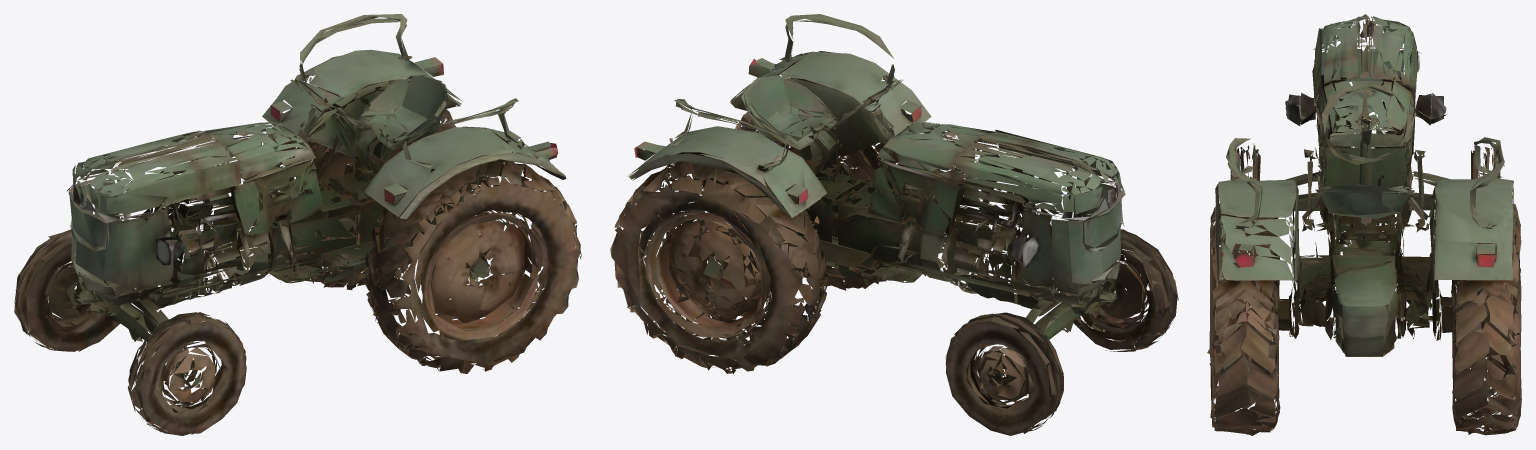
File: obs_tractor.glb
3 renders of one model, left to right at view 1: azimuth 30°, elevation 25°; view 2: azimuth 150°, elevation 25°; view 3: azimuth 270°, elevation 25°, orthographic. The views are drawn at different scales.
Parts seen in each view (by area): view 1: material; view 2: material; view 3: material.
Part boxes in pixels (box(x1,y1,x2,y2)): material: box(14, 14, 581, 435); material: box(610, 14, 1178, 435); material: box(1207, 14, 1521, 435).
Bounding box in the file's own units: 1.04 × 0.5963 × 0.6042.
Materials: 1 (1 with a texture image).
